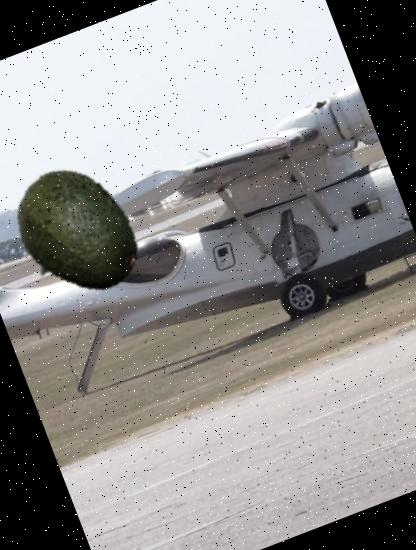Avocado: (0, 145, 162, 322)
